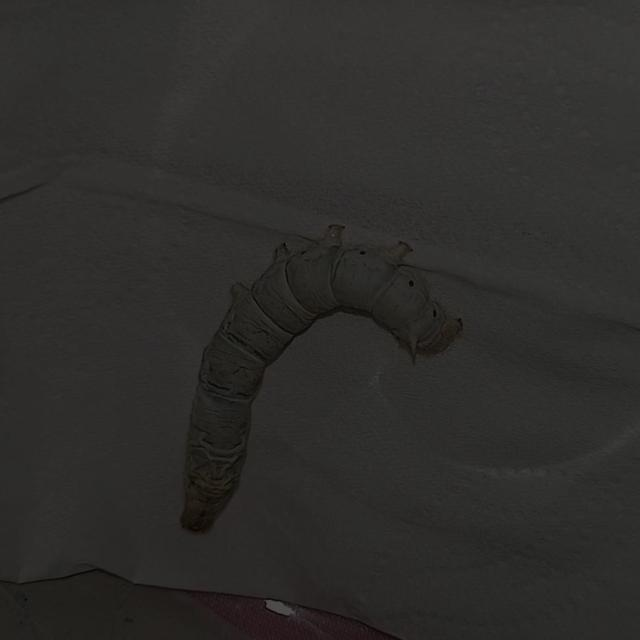Healthy: (154, 207, 469, 548)
